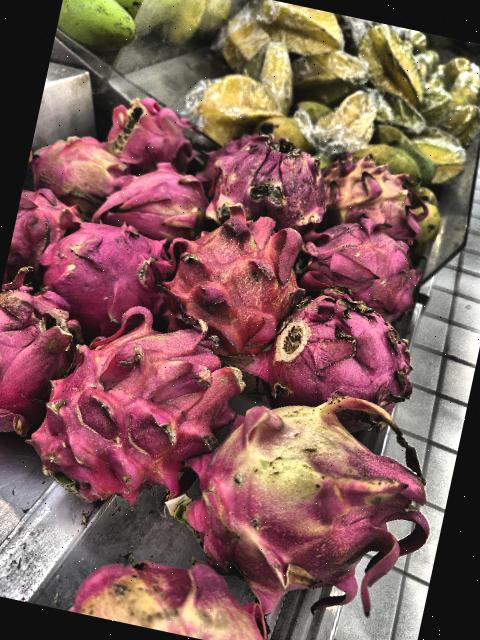buah-naga-belum-matang: (194, 368, 443, 618), (52, 533, 297, 640), (308, 146, 431, 240), (26, 126, 124, 206)
buah-naga-matang: (28, 304, 253, 520), (258, 285, 426, 448), (169, 211, 304, 354), (196, 125, 336, 242), (38, 219, 176, 336), (294, 205, 440, 312), (0, 269, 79, 450), (92, 158, 221, 238), (106, 94, 198, 170), (7, 184, 78, 276)
